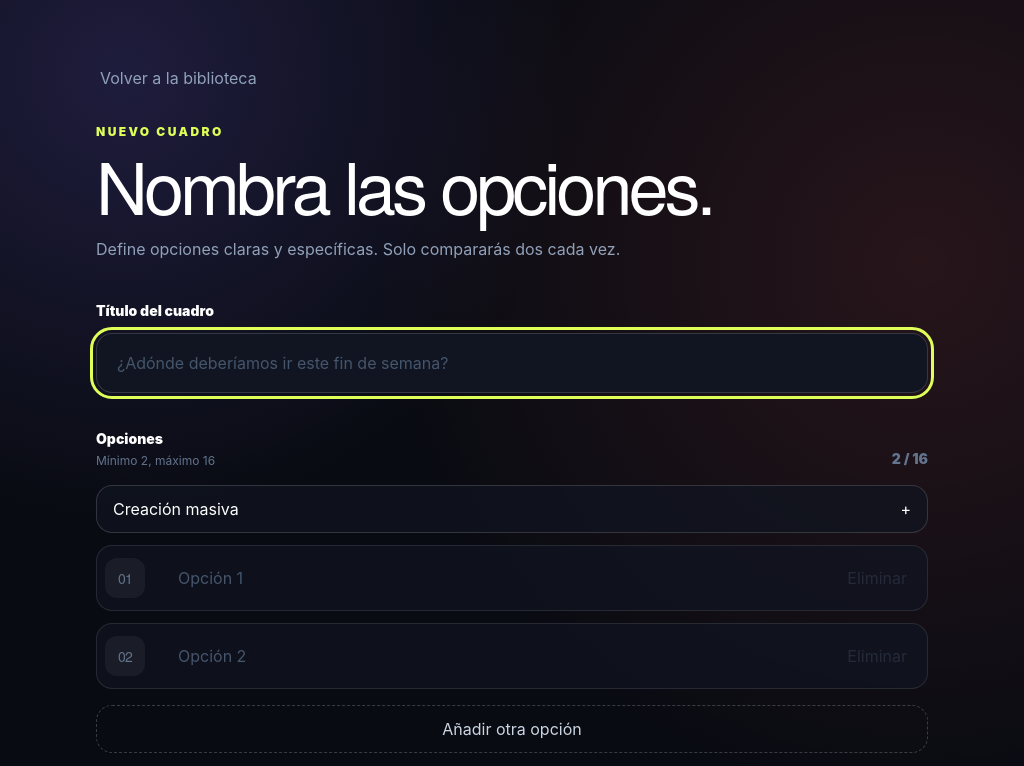
Test case: BracketEditor bulk creation disclosure › starts collapsed and exposes its expanded state accessibly
The image size is (1024, 766).
expect the field labelled "Añadir varias opciones" is not shown: met
Click the button "Creación masiva +". click: (176, 509)
box: 96,485 -> 928,533
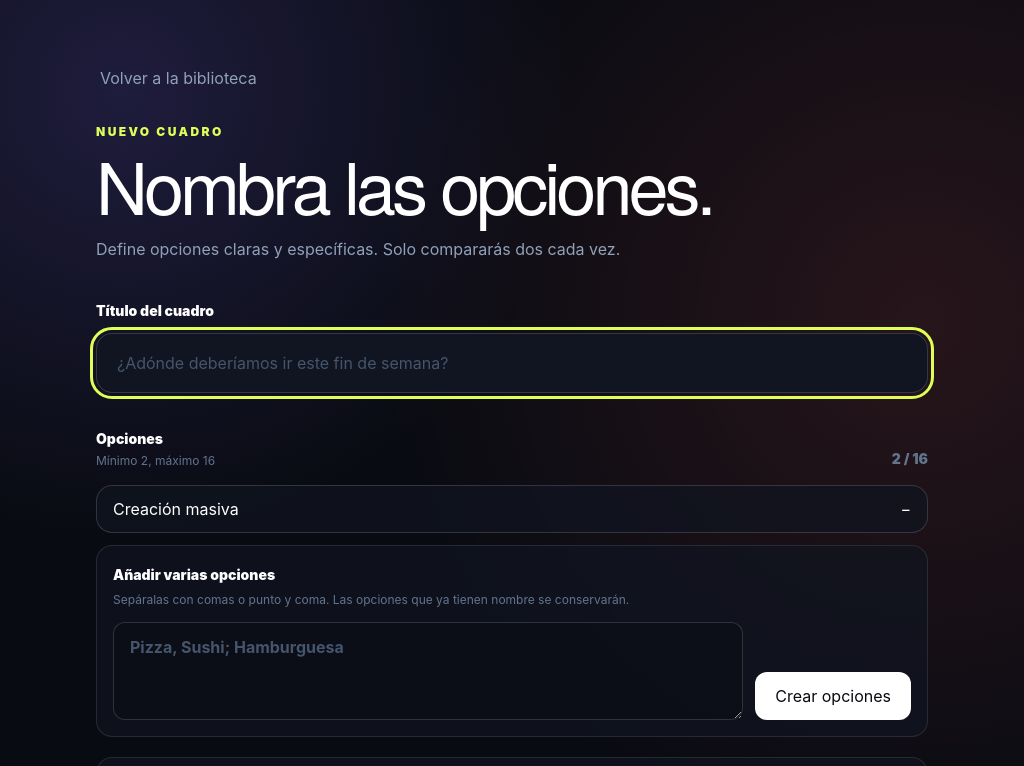
expect the text box labelled "Añadir varias opciones" is shown: met, box 113,622 -> 743,720
expect the element with id "option-list-panel" is shown: met, box 96,545 -> 928,737
